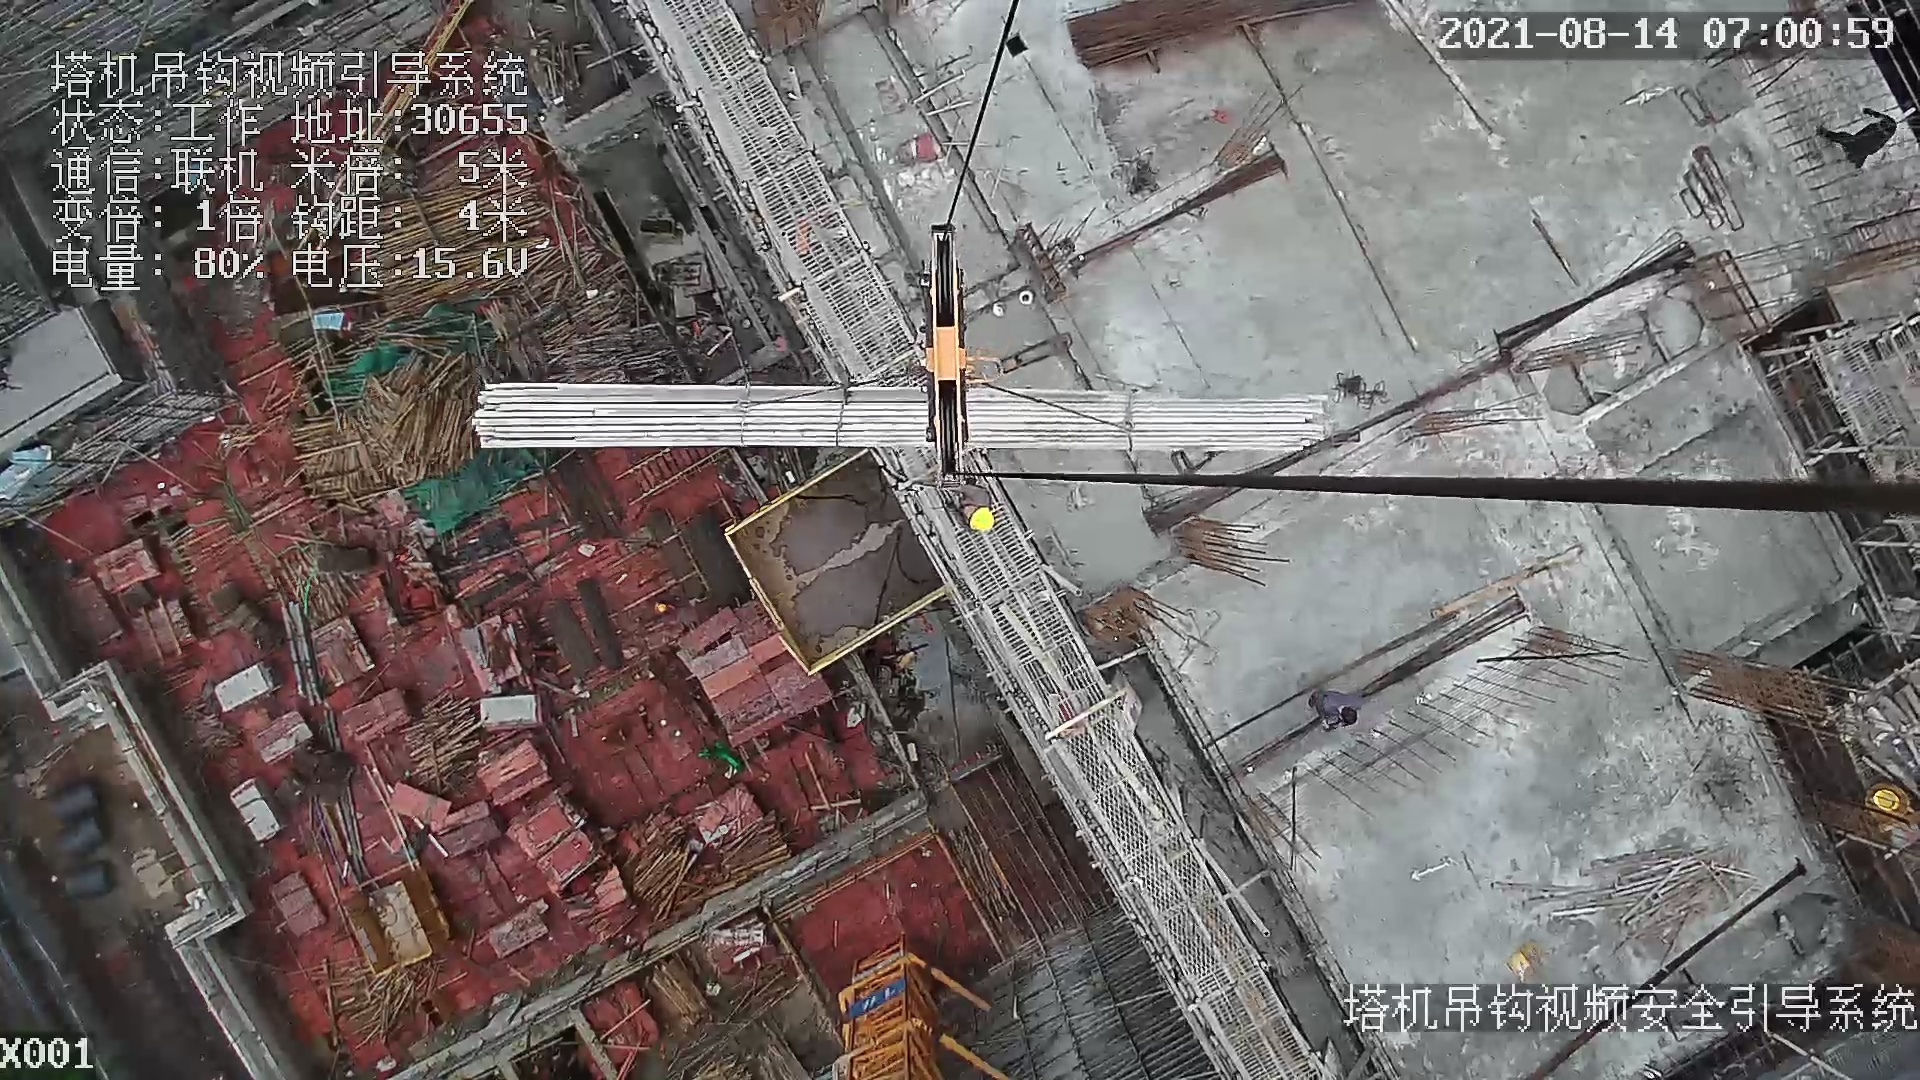helmet: (965, 507, 1001, 535)
hook: (914, 221, 976, 486)
person: (1308, 685, 1362, 733), (954, 501, 1005, 538)
